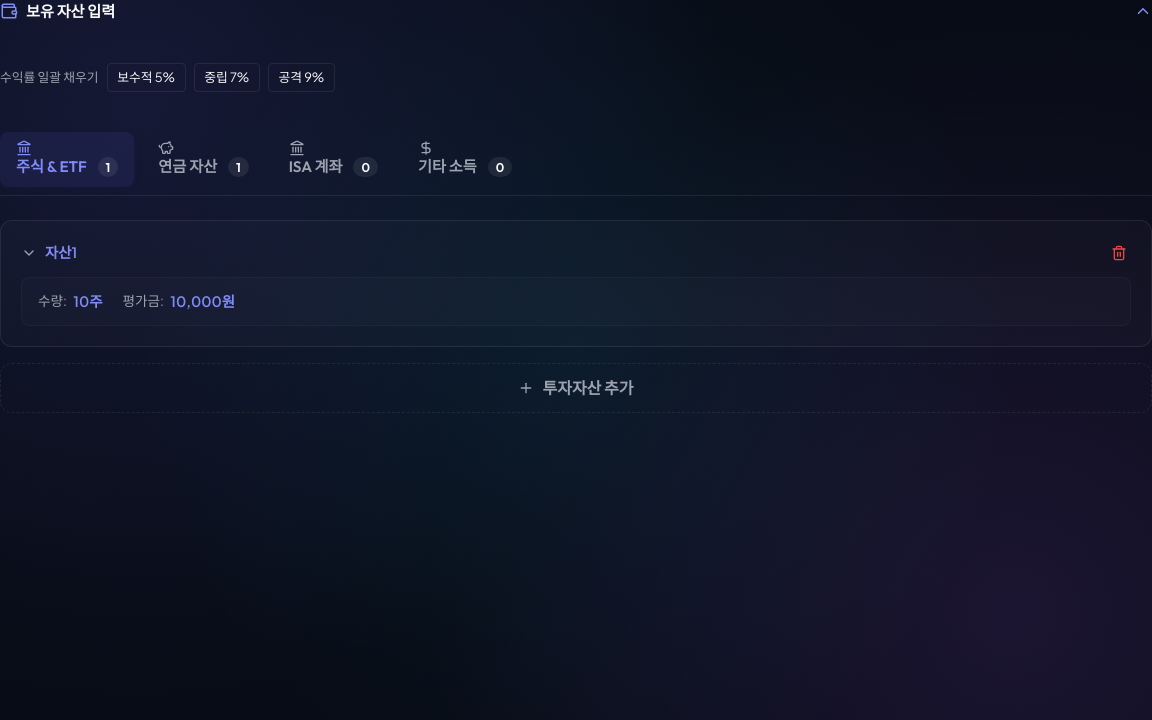
Test: AssetFormSection - 자산별 배당 재투자 › 전문가 모드에서는 자산별로 편집할 수 있다
Click the text "자산1" at (61, 253), box [45, 242, 77, 264]
(page scrolled)
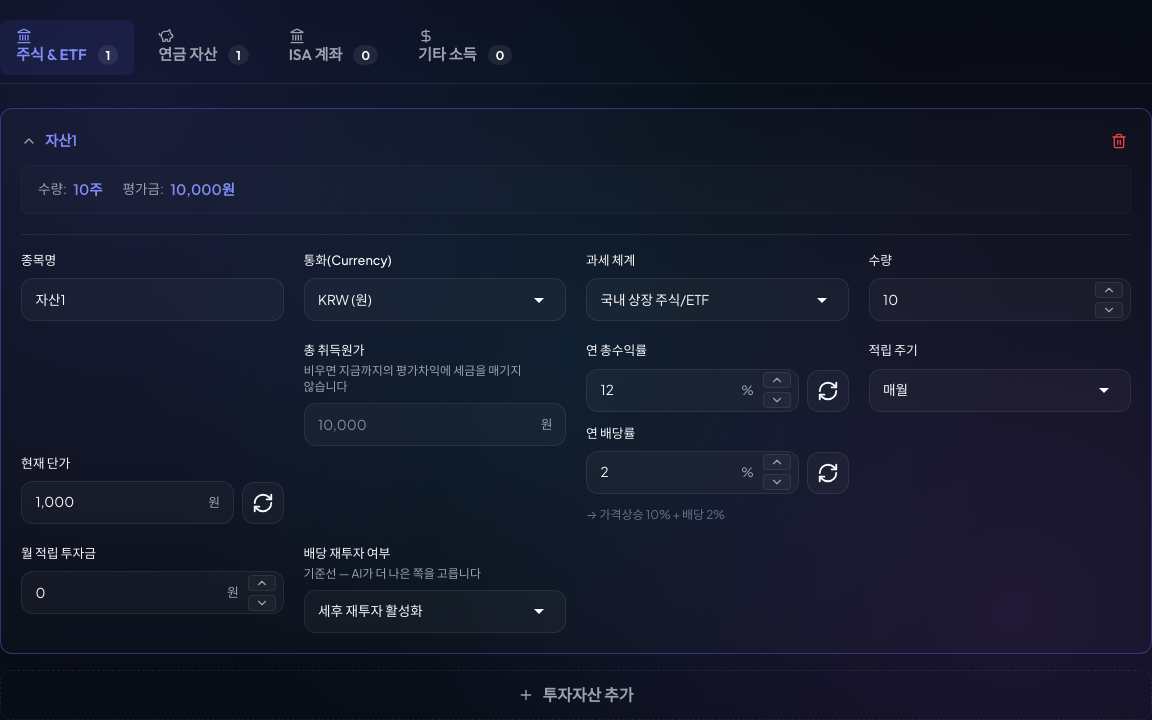
expect the text "배당 재투자 여부" is shown: met, box [304, 544, 390, 563]
expect the dropdown showing "세후 재투자 활성화" below "기준선 — AI가 더 나은 쪽을 고릅니다" is enabled: met, box [304, 590, 566, 633]
